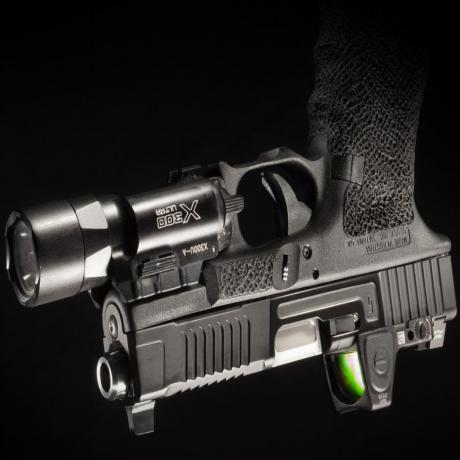weapon: (0, 0, 452, 425)
